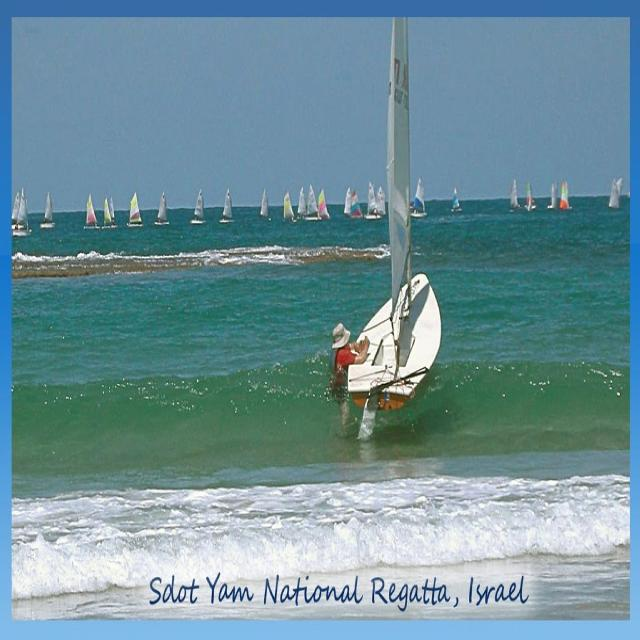Boat: (327, 72, 446, 442), (10, 186, 32, 238), (408, 178, 428, 218), (125, 191, 143, 229), (365, 181, 382, 221), (190, 188, 208, 225), (82, 195, 101, 230), (39, 190, 56, 229), (282, 190, 298, 224), (155, 190, 170, 226), (304, 185, 318, 223), (10, 192, 23, 232), (100, 197, 116, 229), (218, 190, 233, 224), (607, 175, 622, 208), (510, 176, 523, 214), (294, 183, 307, 220), (348, 188, 363, 220), (318, 186, 330, 221), (524, 181, 536, 210), (375, 186, 386, 216), (546, 179, 556, 210), (342, 186, 352, 216), (560, 182, 571, 209), (450, 185, 460, 212), (260, 188, 268, 219), (108, 198, 114, 221)
